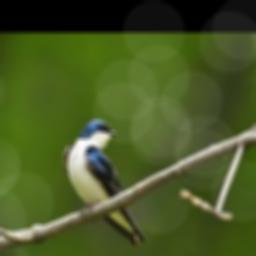Swallow: (62, 117, 147, 246)
